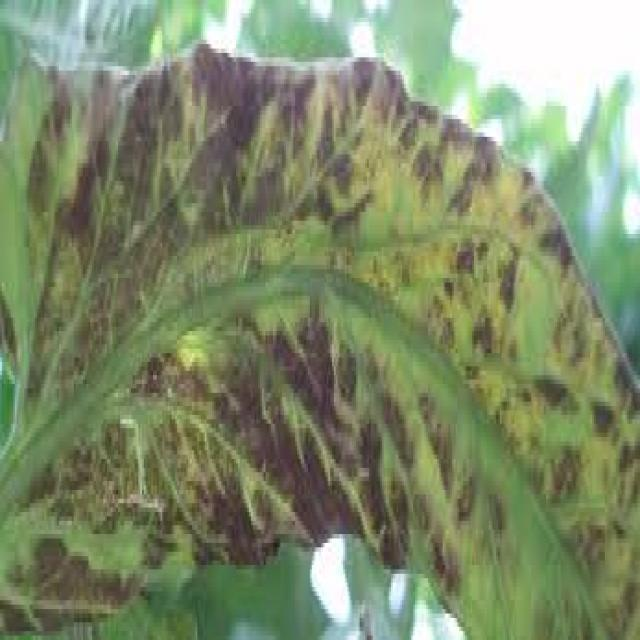Mosaic Virus: (27, 70, 640, 640)
